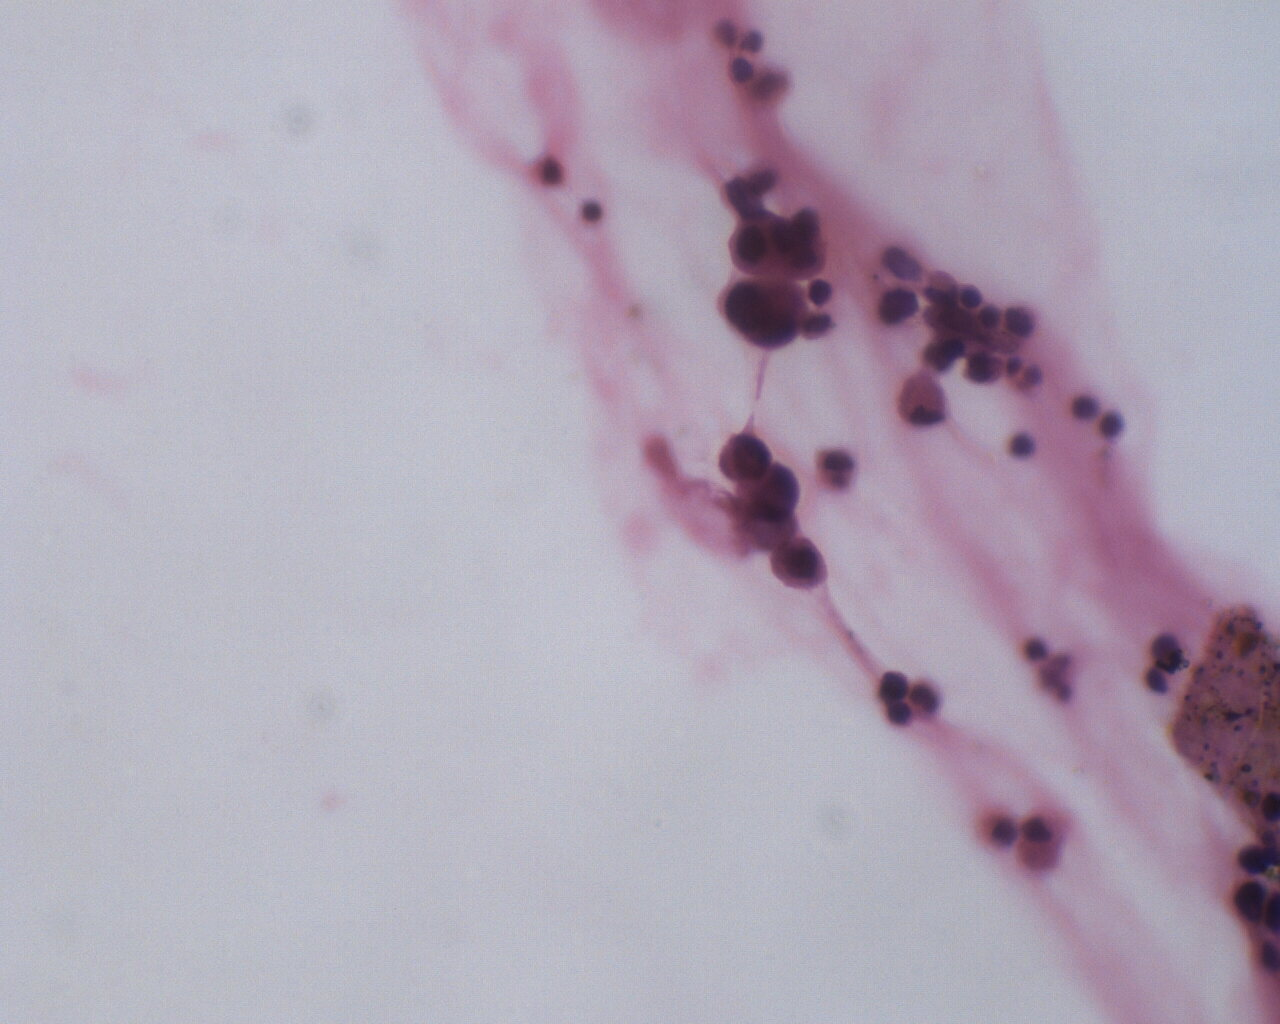ab: (720, 271, 806, 353), (731, 460, 802, 521), (715, 428, 777, 486)
lymph: (1006, 423, 1042, 465)
meso: (769, 534, 830, 592)
